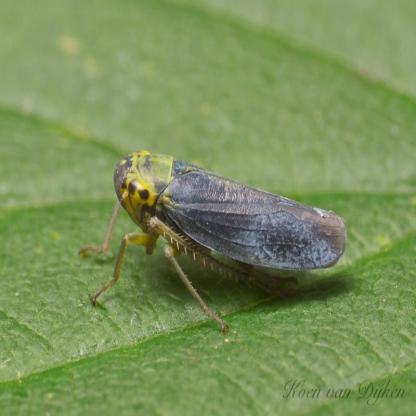Green-Leafhopper: (78, 146, 350, 335)
